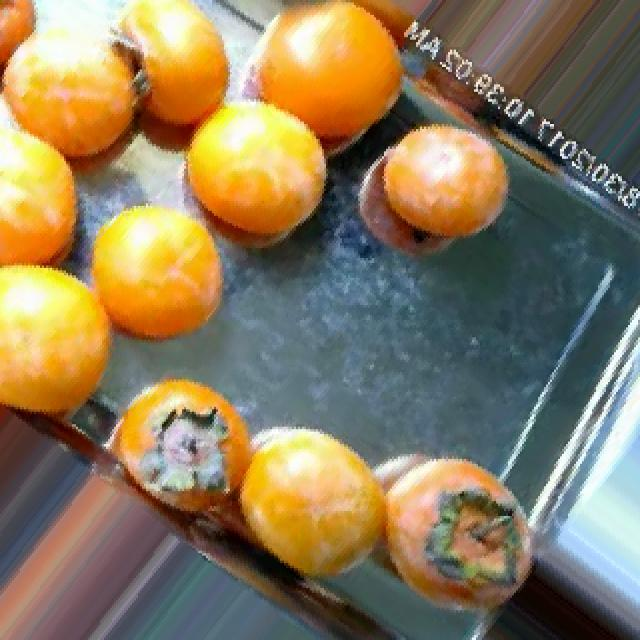Fruit: (338, 94, 542, 280), (74, 176, 246, 375)
